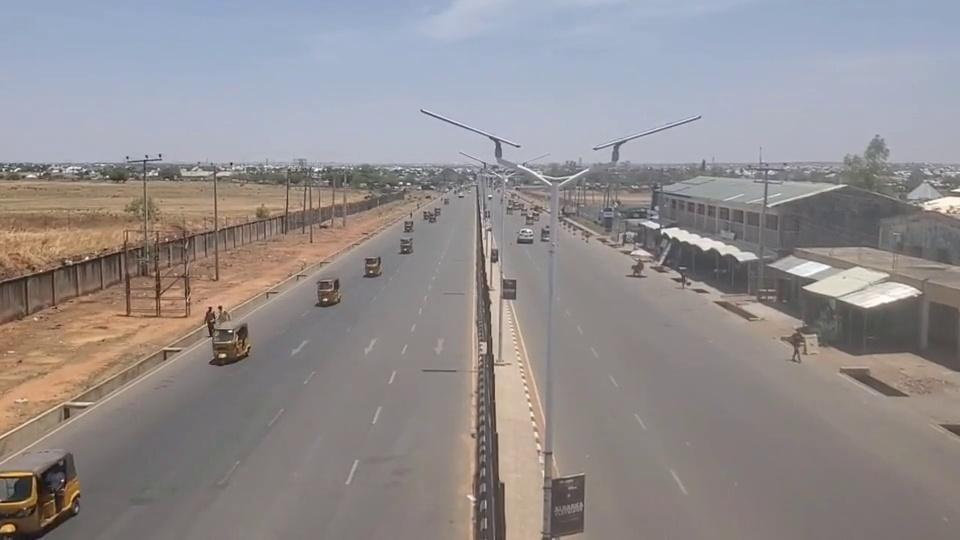keke: (0, 447, 81, 539), (211, 319, 250, 363), (315, 277, 341, 305)
